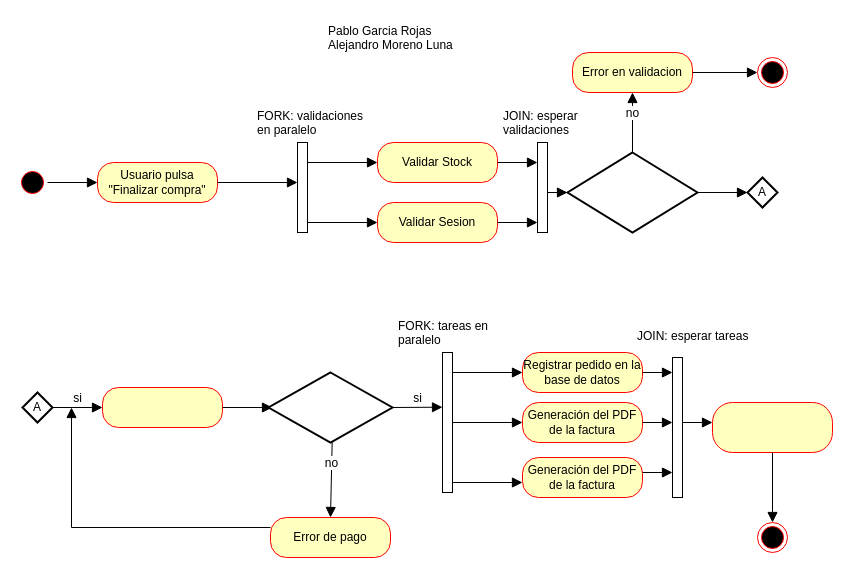
The diagram is 850 pixels wide and 575 high, and some of its shapes have lost their labels. The centre of each missing label's shape, as x and y in pixels:
"Mostrar mensaje confirmación al cliente" goes at (772,427).
"Procesar pago" goes at (162,407).
"¿ambos correctos?" goes at (632,192).
"¿Pago exitoso?" goes at (330,407).
